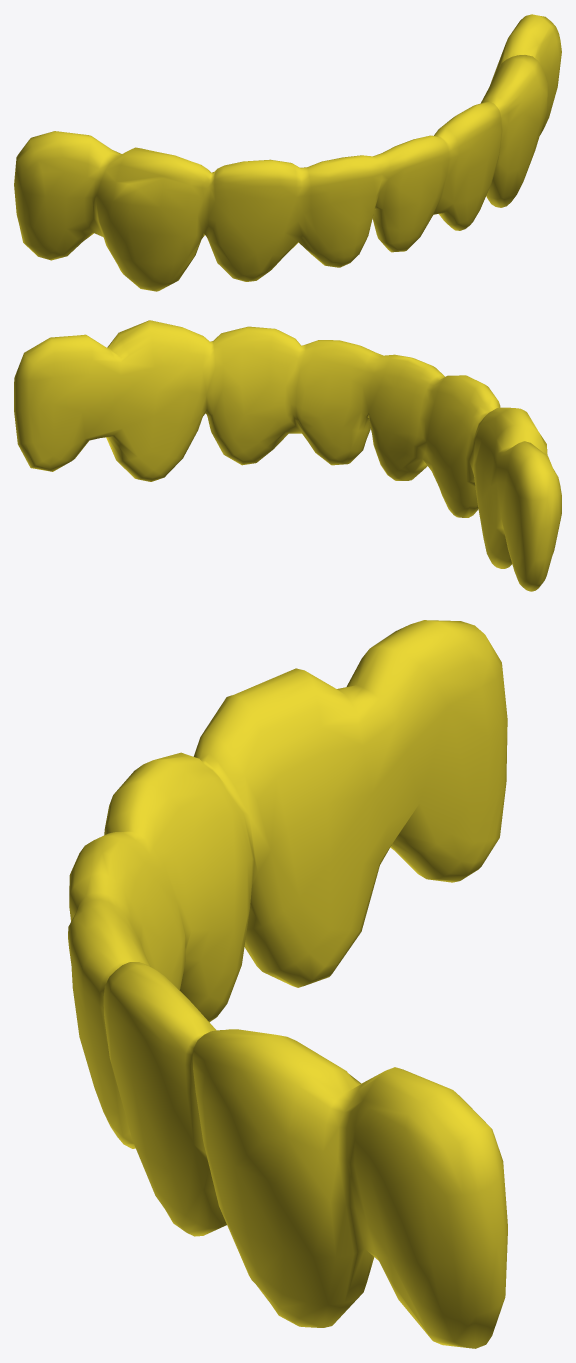
File: grillz-bottom.glb
3 renders of one model, top to bottom at view 1: azimuth 30°, elevation 25°; view 2: azimuth 150°, elevation 25°; view 3: azimuth 270°, elevation 25°, orthographic. The views are drawn at different scales.
Parts seen in each view (by area): view 1: Mesh0; view 2: Mesh0; view 3: Mesh0.
Boxes of the visible parts, bbox=[...] form: Mesh0: bbox=[14, 14, 561, 291]; Mesh0: bbox=[14, 320, 561, 591]; Mesh0: bbox=[68, 620, 507, 1348].
Size of the model in its own units: 0.2918 by 0.0778 by 0.1034.
